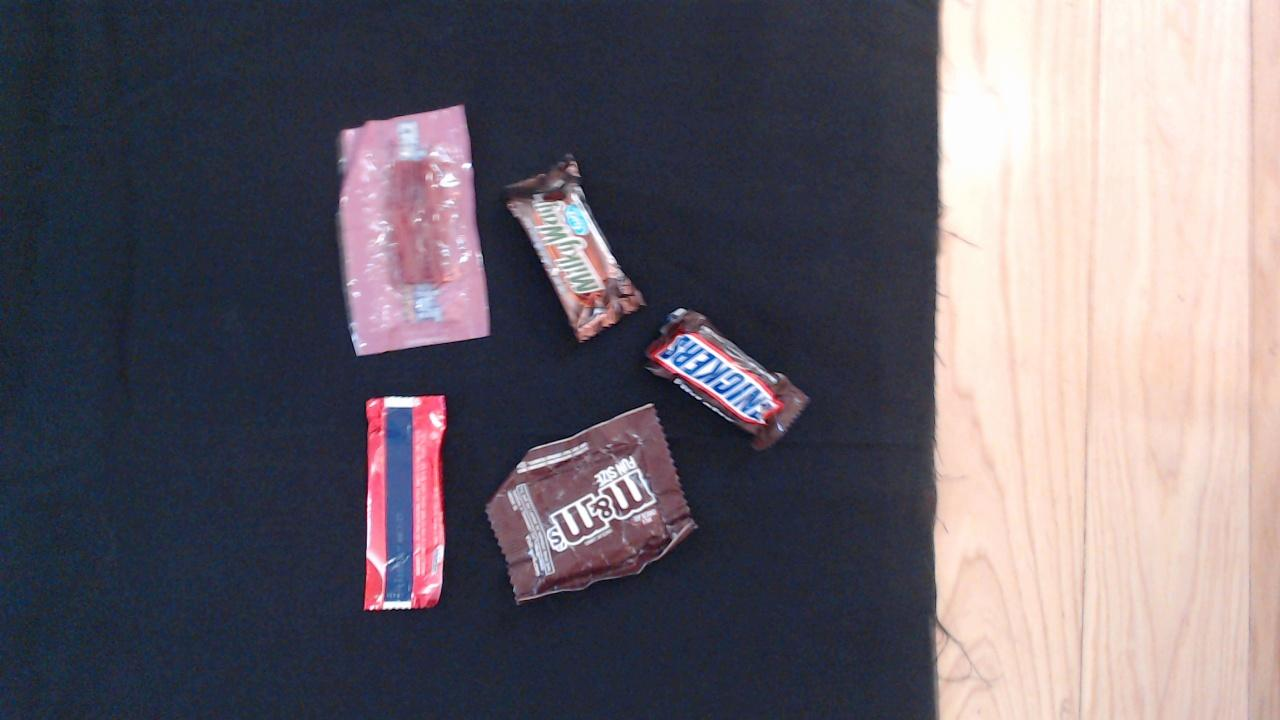MM_regular: (482, 404, 697, 602)
Snickers: (644, 309, 810, 446)
airheads: (363, 395, 449, 612)
milky_way: (501, 155, 647, 343)
twizzlers: (333, 106, 489, 354)
